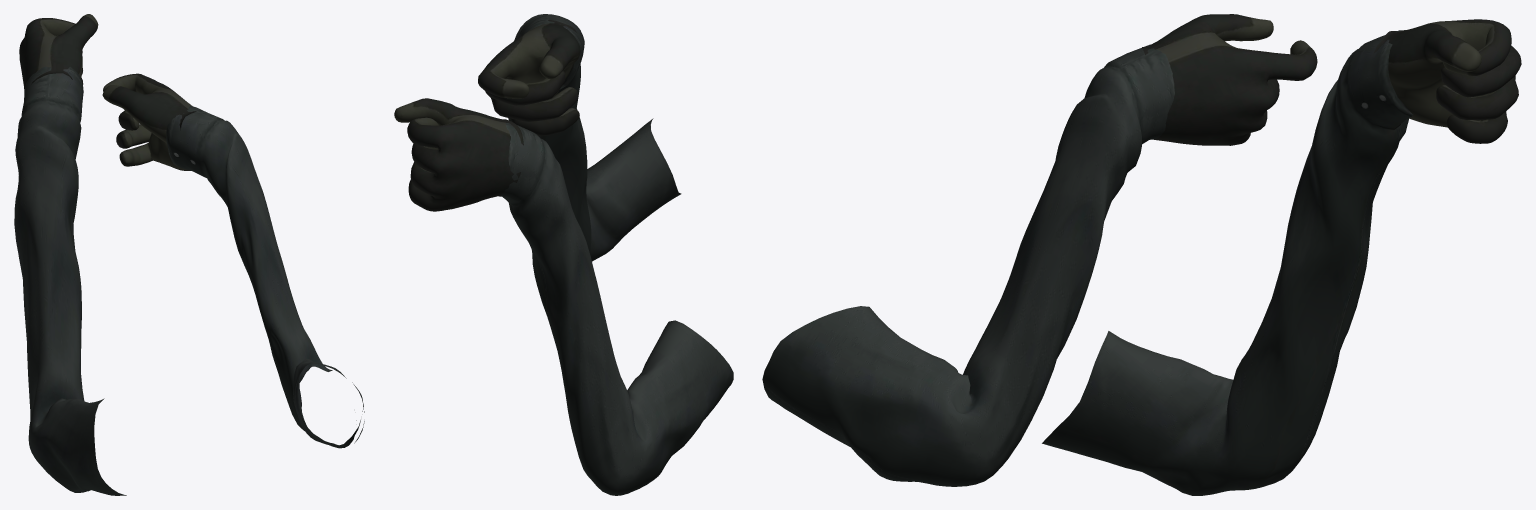
File: smg45_rifle_arms.glb
3 renders of one model, left to right at view 1: azimuth 30°, elevation 25°; view 2: azimuth 150°, elevation 25°; view 3: azimuth 270°, elevation 25°, orthographic. The views are drawn at different scales.
Visible parts, largest first — view 1: LeftArmMesh, RightArmMesh; view 2: LeftArmMesh, RightArmMesh; view 3: RightArmMesh, LeftArmMesh.
Part boxes in pixels (bbox=[...]): LeftArmMesh: bbox=[14, 14, 126, 495]; RightArmMesh: bbox=[102, 73, 364, 448]; LeftArmMesh: bbox=[394, 98, 733, 495]; RightArmMesh: bbox=[478, 14, 681, 261]; RightArmMesh: bbox=[762, 14, 1317, 486]; LeftArmMesh: bbox=[1042, 19, 1521, 495].
Size of the model in its own units: 0.6176 by 1.09 by 1.42.
4 materials, 4 textured.
